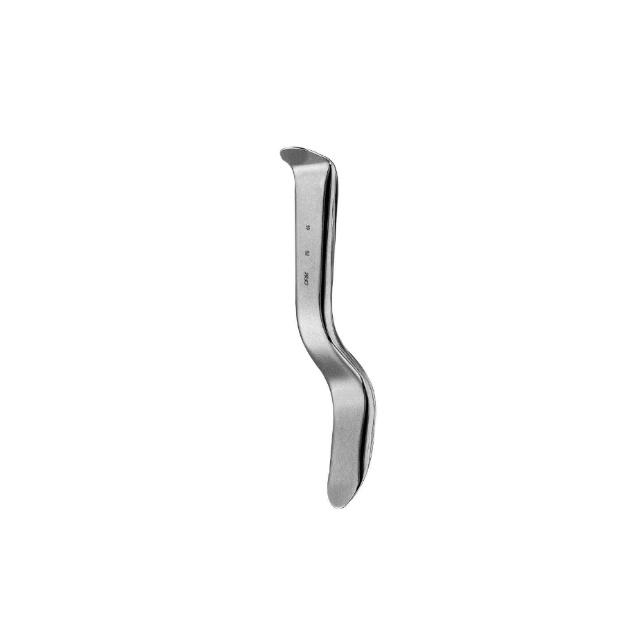separador: (279, 146, 380, 513)
